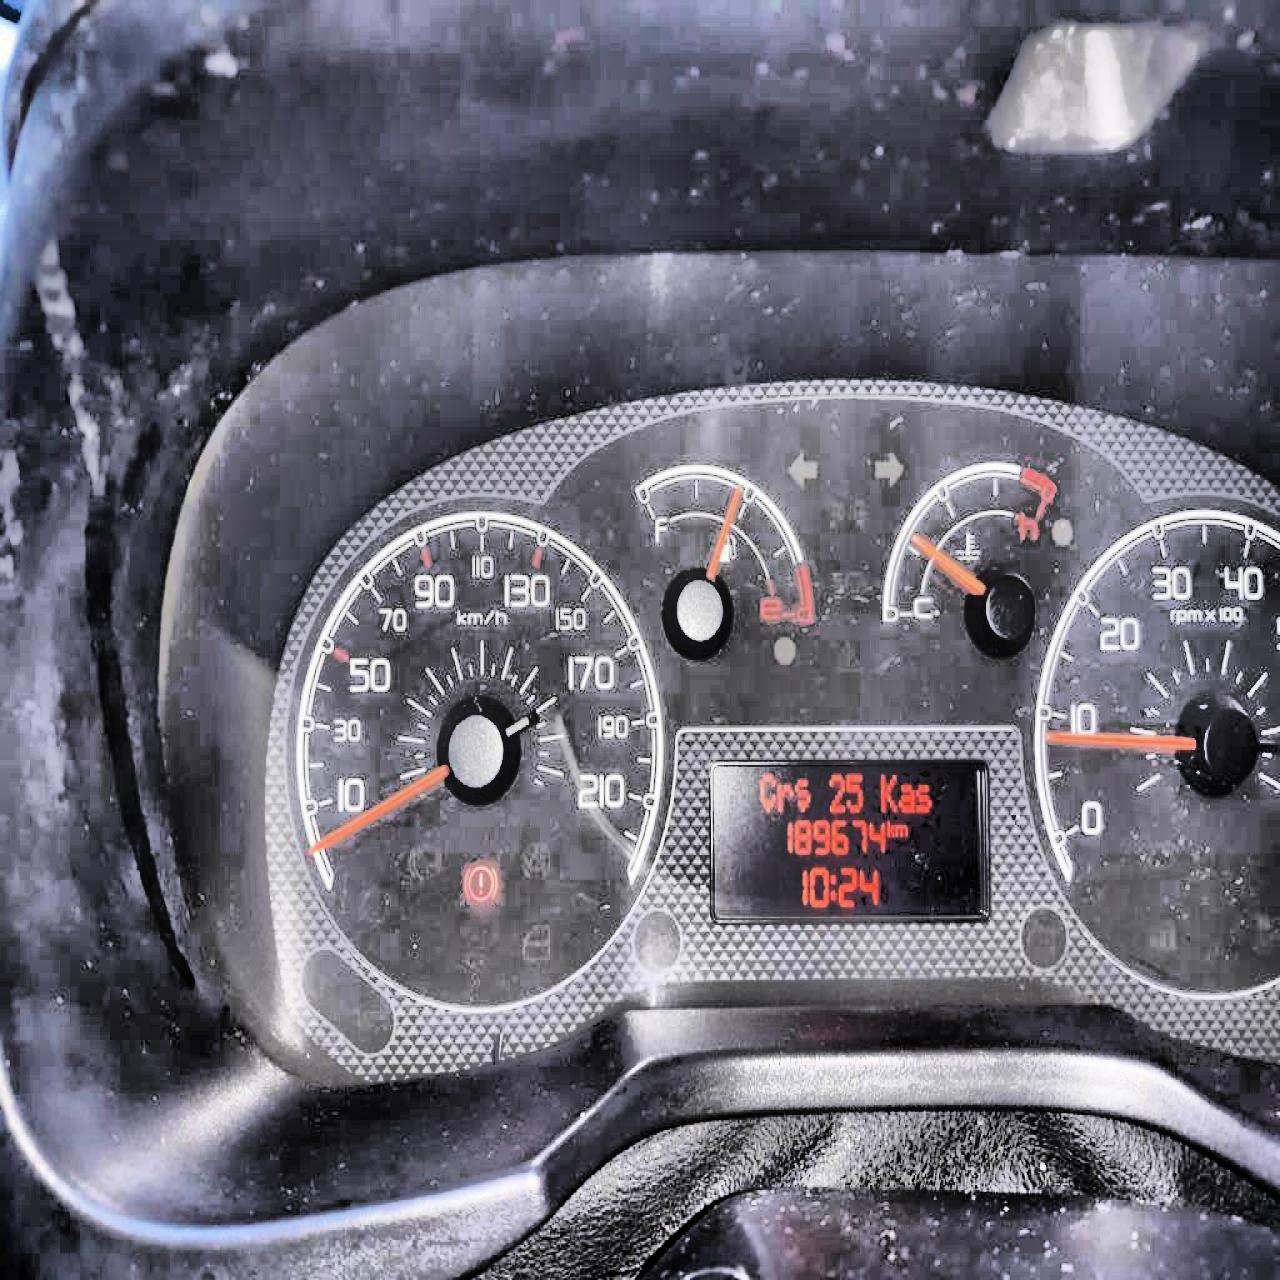0: (808, 865, 828, 907)
1: (799, 869, 809, 905), (785, 821, 792, 852)
2: (836, 865, 856, 907), (828, 771, 844, 811)
4: (858, 866, 878, 905), (867, 821, 884, 852)
5: (845, 771, 863, 811)
6: (831, 818, 847, 852)
7: (850, 818, 866, 852)
8: (792, 818, 810, 853)
9: (811, 818, 829, 853)
X: (879, 771, 897, 813), (794, 776, 811, 811), (760, 771, 775, 811), (914, 782, 931, 811), (776, 783, 792, 812), (898, 782, 913, 811), (828, 872, 837, 900), (893, 822, 907, 837), (886, 818, 893, 838)
odometer: (708, 758, 990, 924)
